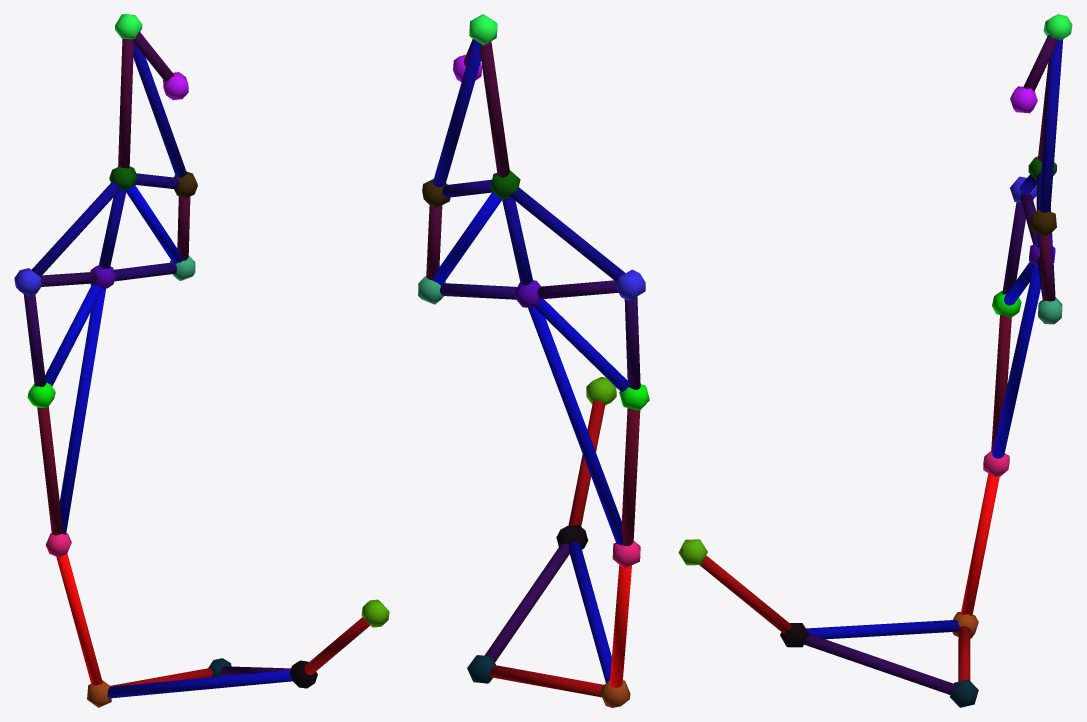
The model's file is arm_skel.glb.
3 renders of one model, left to right at view 1: azimuth 30°, elevation 25°; view 2: azimuth 150°, elevation 25°; view 3: azimuth 270°, elevation 25°, orthographic. The views are drawn at different scales.
Visible parts, largest first — view 1: fg-00010-skel; view 2: fg-00010-skel; view 3: fg-00010-skel.
Boxes of the visible parts, box(x1,y1,x2,y2) form: fg-00010-skel: box(14, 14, 389, 707); fg-00010-skel: box(418, 14, 649, 707); fg-00010-skel: box(678, 14, 1072, 707).
Size of the model in its own units: 0.0833 by 0.2466 by 0.1317.
Materials: 1 (1 with a texture image).
